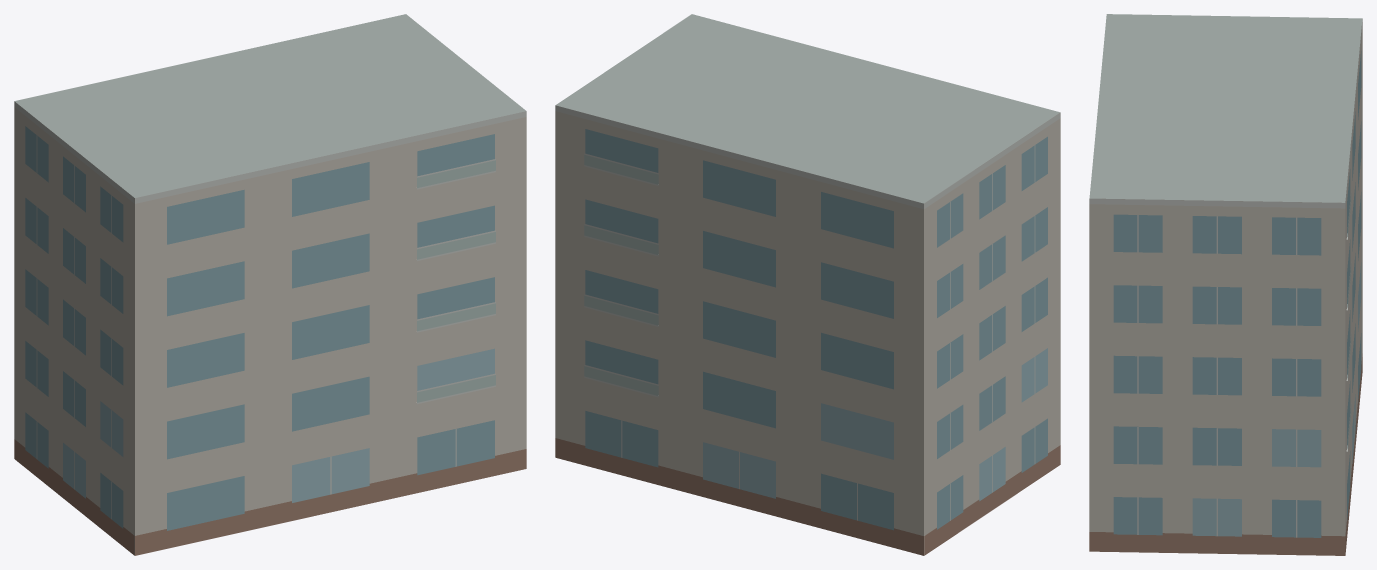
File: survey-upis-32653444.glb
3 views of the same model, side by side, from view 1: azimuth 30°, elevation 25°; view 2: azimuth 150°, elevation 25°; view 3: azimuth 270°, elevation 25° (orthographic).
Visible parts, largest first — view 1: survey-upis-32653444.tmp; view 2: survey-upis-32653444.tmp; view 3: survey-upis-32653444.tmp.
Boxes of the visible parts, x1,y1,x2,y2 form: survey-upis-32653444.tmp: (14,14,526,555); survey-upis-32653444.tmp: (555,14,1060,555); survey-upis-32653444.tmp: (1089,14,1362,555).
Size of the model in its own units: 17.33 by 15.1 by 10.6.
